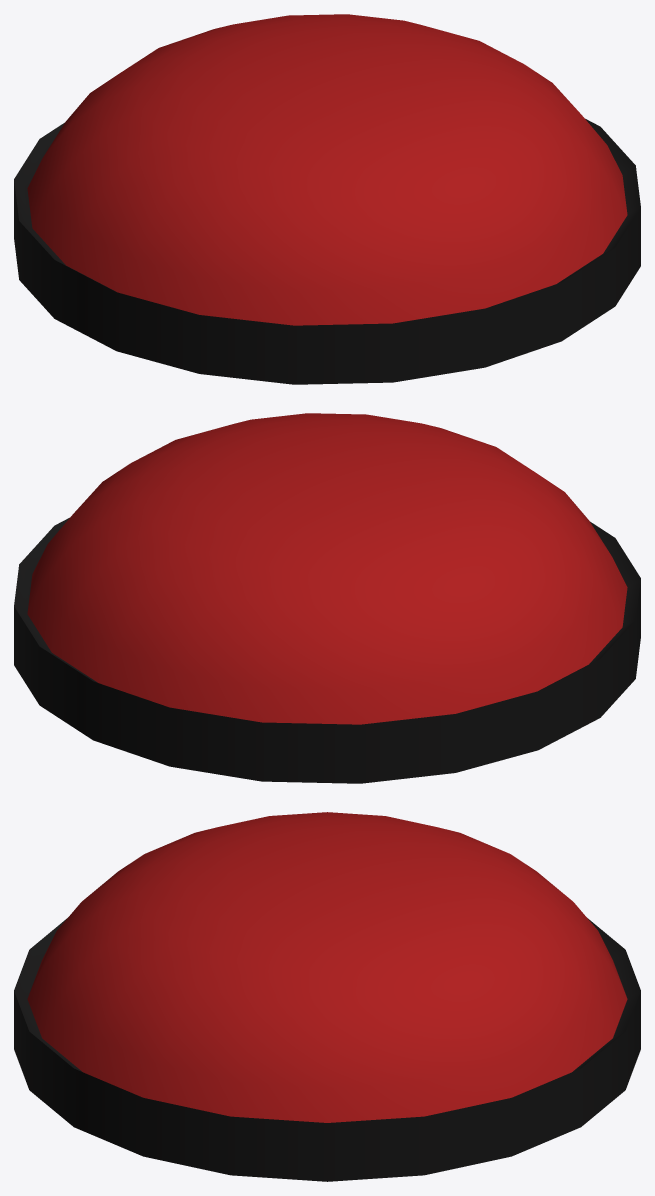
The model's file is Button.fbx.
The picture shows the model from 3 angles, top to bottom: view 1: azimuth 30°, elevation 25°; view 2: azimuth 150°, elevation 25°; view 3: azimuth 270°, elevation 25°; orthographic projection.
Parts seen in each view (by area): view 1: pSphere2; view 2: pSphere2; view 3: pSphere2.
Boxes of the visible parts, x1,y1,x2,y2 form: pSphere2: (14,14,640,384); pSphere2: (14,413,640,783); pSphere2: (14,812,640,1181).
Size of the model in its own units: 49.04 by 15.79 by 49.04.
